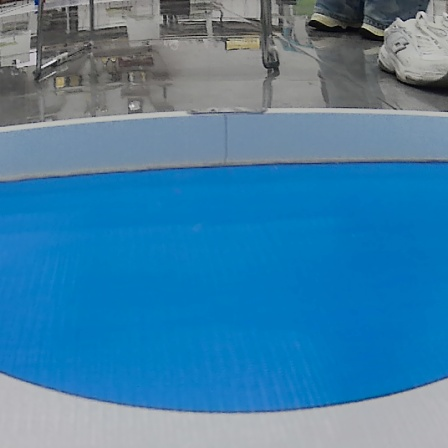blue_base: (1, 160, 448, 415)
